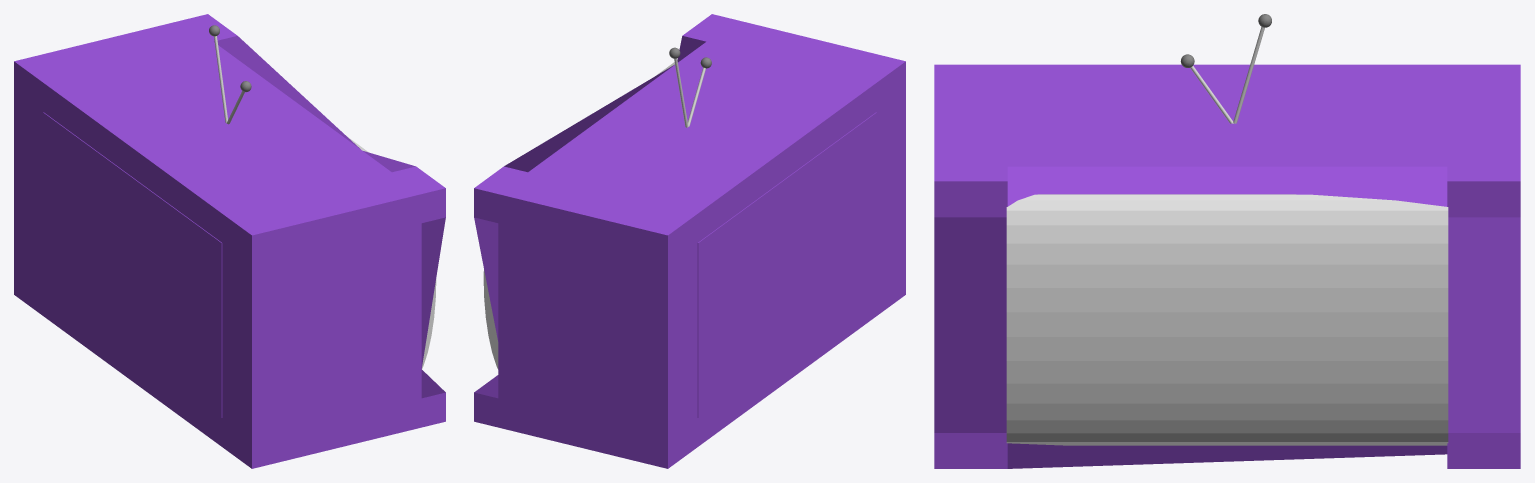
File: Tele.fbx
3 renders of one model, left to right at view 1: azimuth 30°, elevation 25°; view 2: azimuth 150°, elevation 25°; view 3: azimuth 270°, elevation 25°, orthographic. The views are drawn at different scales.
Visible parts, largest first — view 1: Cube; view 2: Cube, Cilindro; view 3: Cube, Cilindro.
Part boxes in pixels (x1=…): Cube: x1=14, y1=14, x2=445, y2=468; Cube: x1=474, y1=14, x2=905, y2=468; Cilindro: x1=483, y1=62, x2=674, y2=369; Cube: x1=934, y1=64, x2=1520, y2=468; Cilindro: x1=1006, y1=194, x2=1448, y2=445.
Size of the model in its own units: 221 by 317 by 425.
